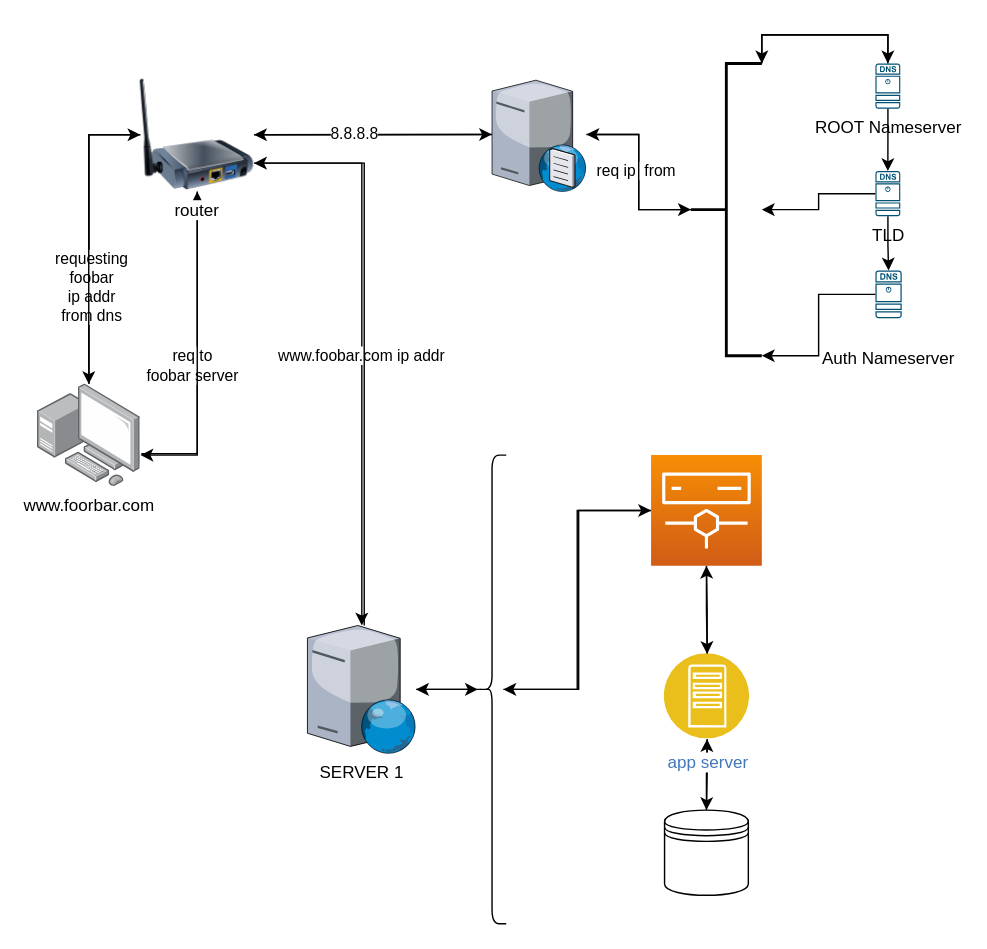
The diagram is 987 pixels wide and 949 high, and some of its shapes have lost their labels. Here are the shapes that lost their labels. From the top down, the centre of each, then its label:
(538,134): dns resolver
(706,510): web server
(705,852): sql database
